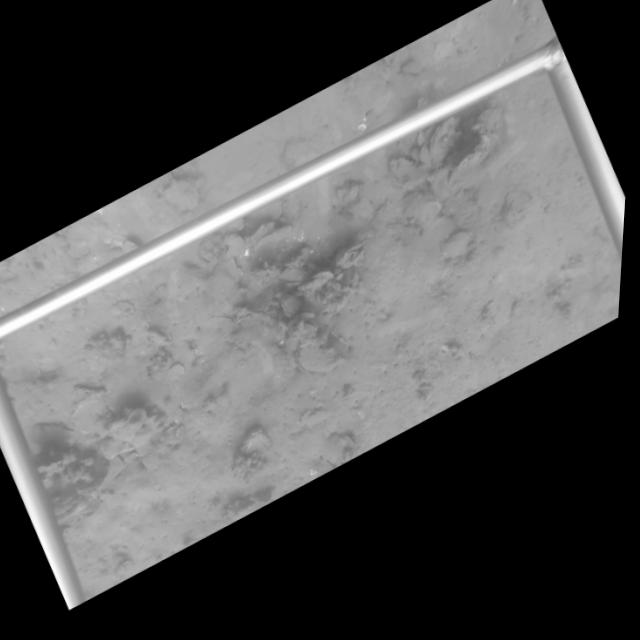Oyster-Closed: (290, 346, 345, 378), (430, 116, 462, 166), (279, 294, 302, 318)
Oyster-Indeterminate: (32, 421, 78, 453), (158, 177, 200, 212)
